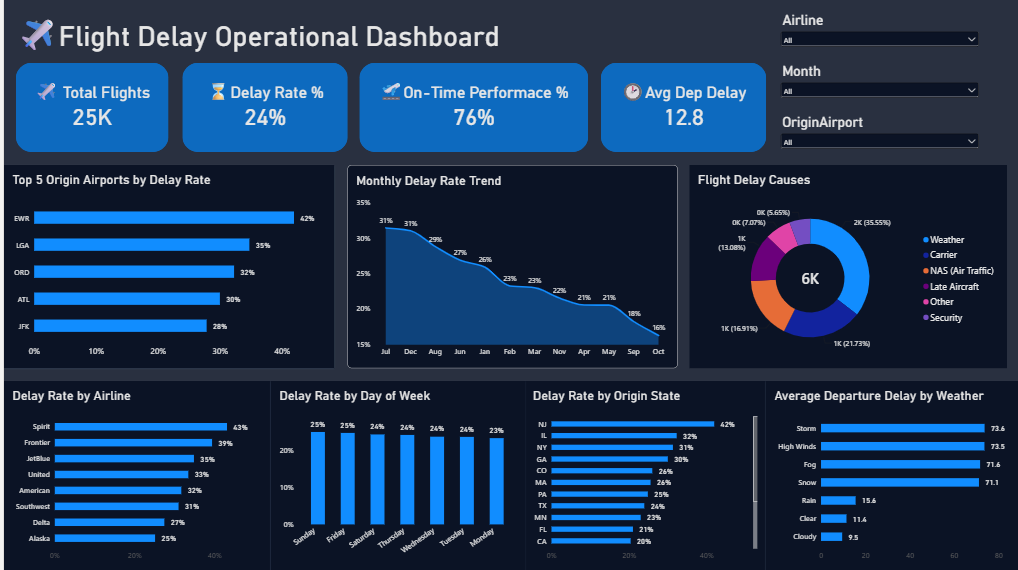

This screenshot's page, from the dashboard's own definition file:
{"tool":"powerbi","page":{"name":"Page 1","canvas":[1920,1080],"ordinal":0},"visuals":[{"type":"cardVisual","fields":{"Data":["flight_delay_dataset.Total Flights"]},"box":[24,120,288,168],"z":0},{"type":"cardVisual","fields":{"Data":["flight_delay_dataset.Delay Rate %"]},"box":[336,120,312,168],"z":1000},{"type":"cardVisual","fields":{"Data":["flight_delay_dataset.On-Time Performace %"]},"box":[672,120,432,168],"z":2000},{"type":"cardVisual","fields":{"Data":["flight_delay_dataset.Avg Dep Delay"]},"box":[1128,120,312,168],"z":3000},{"type":"clusteredBarChart","title":"Top 5 Origin Airports by Delay Rate","fields":{"Category":["flight_delay_dataset.OriginAirport"],"Y":["flight_delay_dataset.Delay Rate %"]},"box":[0,312,624,384],"z":4000},{"type":"lineChart","title":"Monthly Delay Rate Trend","fields":{"Category":["flight_delay_dataset.Month"],"Y":["flight_delay_dataset.Delay Rate %"]},"box":[648,312,624,384],"z":5000},{"type":"donutChart","title":"Flight Delay Causes","fields":{"Category":["flight_delay_dataset.DelayCause"],"Y":["flight_delay_dataset.Delayed Flights"]},"box":[1296,312,600,384],"z":6000},{"type":"clusteredBarChart","title":"Delay Rate by Origin State","fields":{"Category":["flight_delay_dataset.OriginState"],"Y":["flight_delay_dataset.Delay Rate %"]},"box":[984,720,456,360],"z":7000},{"type":"clusteredBarChart","title":"Delay Rate by Airline","fields":{"Category":["flight_delay_dataset.Airline"],"Y":["flight_delay_dataset.Delay Rate %"]},"box":[0,720,504,360],"z":8000},{"type":"clusteredColumnChart","title":"Delay Rate by Day of Week","fields":{"Category":["flight_delay_dataset.DayOfWeek"],"Y":["flight_delay_dataset.Delay Rate %"]},"box":[504,720,480,360],"z":9000},{"type":"clusteredBarChart","title":"Average Departure Delay by Weather","fields":{"Category":["flight_delay_dataset.WeatherCondition"],"Y":["flight_delay_dataset.Avg Dep Delay"]},"box":[1440,720,480,360],"z":10000},{"type":"slicer","fields":{"Values":["flight_delay_dataset.Airline"]},"box":[1464,24,384,72],"z":11000},{"type":"slicer","fields":{"Values":["flight_delay_dataset.Month"]},"box":[1464,120,384,72],"z":12000},{"type":"slicer","fields":{"Values":["flight_delay_dataset.OriginAirport"]},"box":[1464,216,384,72],"z":13000},{"type":"textbox","box":[24,24,1008,96],"z":13002}]}

Visuals, with their boxes in screenshot pixels (x1, y1, x2, y2), scaled from the page's 1920x1080 canvas onto the 1018x570 screenshot:
cardVisual - flight_delay_dataset.Total Flights: bbox=[13, 63, 165, 152]
cardVisual - flight_delay_dataset.Delay Rate %: bbox=[178, 63, 344, 152]
cardVisual - flight_delay_dataset.On-Time Performace %: bbox=[356, 63, 585, 152]
cardVisual - flight_delay_dataset.Avg Dep Delay: bbox=[598, 63, 763, 152]
"Top 5 Origin Airports by Delay Rate" clusteredBarChart: bbox=[0, 165, 331, 367]
"Monthly Delay Rate Trend" lineChart: bbox=[344, 165, 674, 367]
"Flight Delay Causes" donutChart: bbox=[687, 165, 1005, 367]
"Delay Rate by Origin State" clusteredBarChart: bbox=[522, 380, 763, 569]
"Delay Rate by Airline" clusteredBarChart: bbox=[0, 380, 267, 569]
"Delay Rate by Day of Week" clusteredColumnChart: bbox=[267, 380, 522, 569]
"Average Departure Delay by Weather" clusteredBarChart: bbox=[763, 380, 1017, 569]
slicer - flight_delay_dataset.Airline: bbox=[776, 13, 980, 51]
slicer - flight_delay_dataset.Month: bbox=[776, 63, 980, 101]
slicer - flight_delay_dataset.OriginAirport: bbox=[776, 114, 980, 152]
textbox: bbox=[13, 13, 547, 63]
